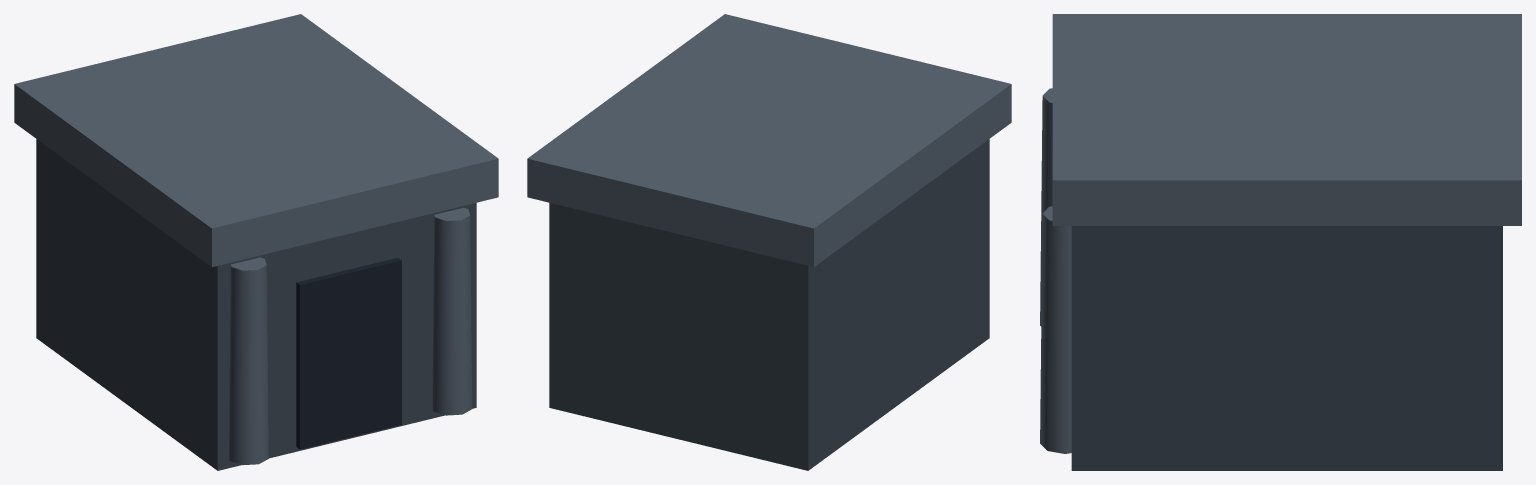
The model's file is crypt_large.glb.
The picture shows the model from 3 angles, left to right: view 1: azimuth 30°, elevation 25°; view 2: azimuth 150°, elevation 25°; view 3: azimuth 270°, elevation 25°; orthographic projection. The views are drawn at different scales.
Bounding box in the file's own units: 3.1 × 2.6 × 3.8.
